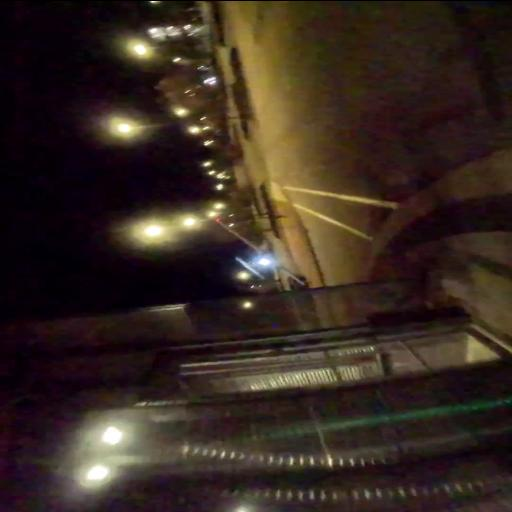uav: (213, 218, 313, 288)
